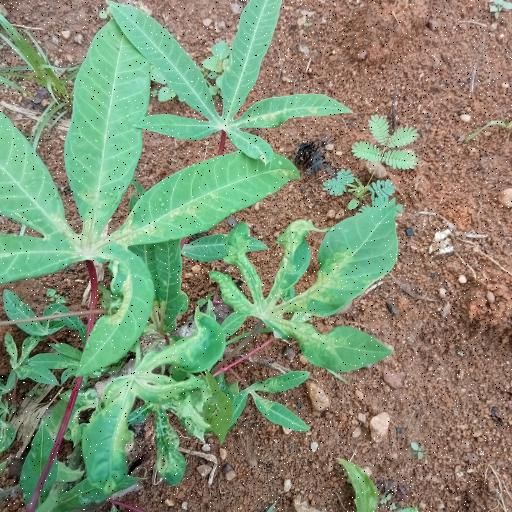Cassava_Mosaic: (3, 31, 268, 271), (110, 5, 332, 152), (217, 208, 401, 370), (79, 307, 225, 489)
